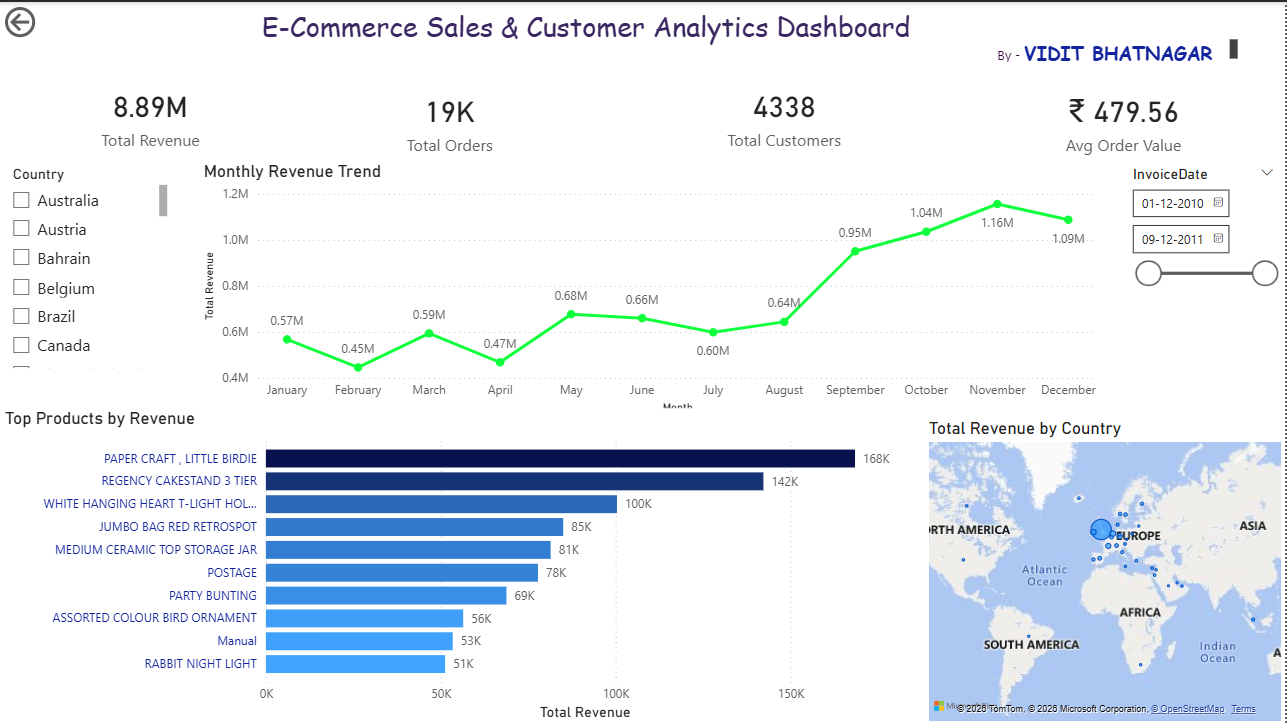

This screenshot's page, from the dashboard's own definition file:
{"tool":"powerbi","page":{"name":"Page 1","canvas":[1280,720],"ordinal":0},"visuals":[{"type":"card","fields":{"Values":["ecommerce_data.Total Revenue"]},"box":[10,78.4,279.9,69.7],"z":0},{"type":"card","fields":{"Values":["ecommerce_data.Total Orders"]},"box":[289.8,78.4,316,79.6],"z":1000},{"type":"card","fields":{"Values":["ecommerce_data.Total Customers"]},"box":[587.1,78.4,386.9,69.7],"z":2000},{"type":"card","fields":{"Values":["ecommerce_data.Avg Order Value"]},"box":[956.6,78.4,323.4,79.6],"z":3000},{"type":"actionButton","box":[0,0,100,40],"z":4000},{"type":"lineChart","title":"Monthly Revenue Trend","fields":{"Category":["ecommerce_data.InvoiceDate.Variation.Date Hierarchy.Month"],"Y":["ecommerce_data.Total Revenue"]},"box":[197.8,158,901.9,256.3],"z":5000},{"type":"barChart","title":"Top Products by Revenue","fields":{"Category":["ecommerce_data.Description"],"Y":["ecommerce_data.Total Revenue"]},"box":[0,404.3,919.3,316],"z":6000},{"type":"map","fields":{"Category":["ecommerce_data.Country"],"Size":["ecommerce_data.Total Revenue"]},"box":[919.3,414.2,360.7,306],"z":7000},{"type":"slicer","fields":{"Values":["ecommerce_data.Country"]},"box":[0,158,171.7,211.5],"z":8000},{"type":"slicer","fields":{"Values":["ecommerce_data.InvoiceDate"]},"box":[1114.6,158,165.4,211.5],"z":9000},{"type":"textbox","box":[186.6,0,801.1,64.7],"z":10000},{"type":"textbox","box":[987.7,32.3,248.8,32.3],"z":11000}]}

Visuals, with their boxes in screenshot pixels (x1, y1, x2, y2), scaled from the page's 1280x720 canvas onto the 1287x723 screenshot:
card - ecommerce_data.Total Revenue: <bbox>10, 79, 291, 149</bbox>
card - ecommerce_data.Total Orders: <bbox>291, 79, 609, 159</bbox>
card - ecommerce_data.Total Customers: <bbox>590, 79, 979, 149</bbox>
card - ecommerce_data.Avg Order Value: <bbox>962, 79, 1286, 159</bbox>
actionButton: <bbox>0, 0, 101, 40</bbox>
"Monthly Revenue Trend" lineChart: <bbox>199, 159, 1106, 416</bbox>
"Top Products by Revenue" barChart: <bbox>0, 406, 924, 722</bbox>
map - ecommerce_data.Country x ecommerce_data.Total Revenue: <bbox>924, 416, 1286, 722</bbox>
slicer - ecommerce_data.Country: <bbox>0, 159, 173, 371</bbox>
slicer - ecommerce_data.InvoiceDate: <bbox>1121, 159, 1286, 371</bbox>
textbox: <bbox>188, 0, 993, 65</bbox>
textbox: <bbox>993, 32, 1243, 65</bbox>
